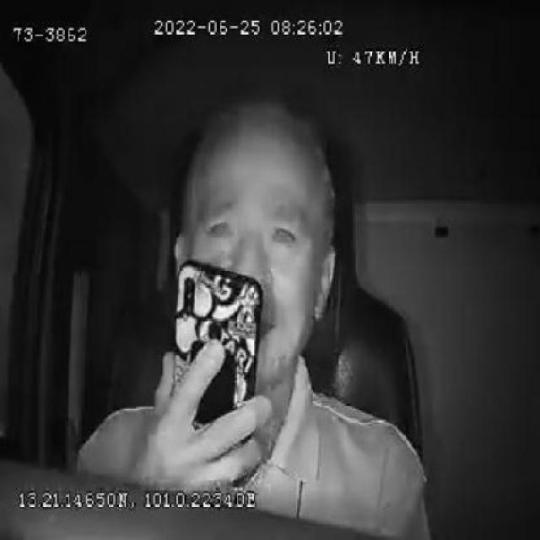phone: (175, 260, 262, 462)
